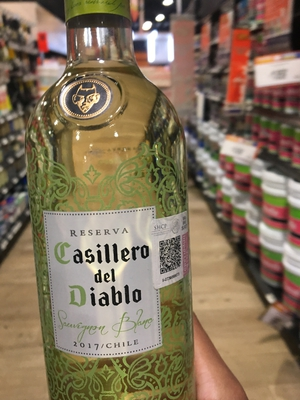casillero del diablo sauvignon blanc: (28, 12, 195, 400)
